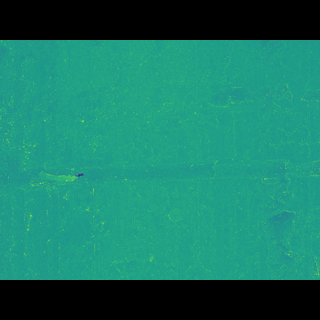Loch: (0, 69, 219, 248), (68, 91, 319, 140), (0, 155, 320, 184)
